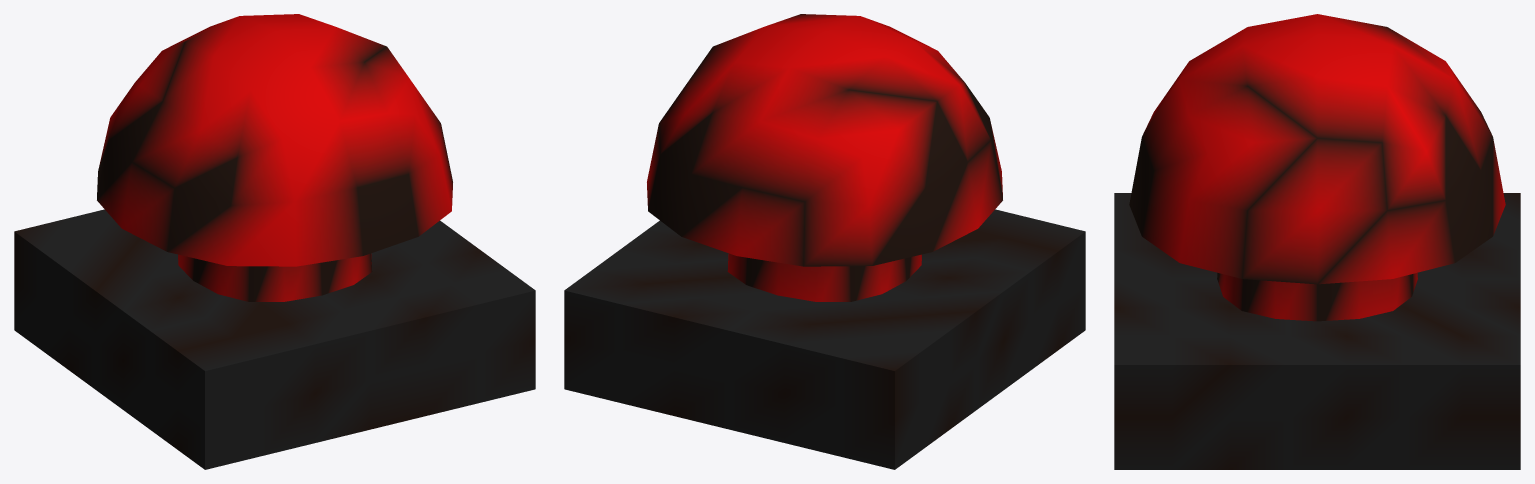
File: SM_Button.fbx
3 renders of one model, left to right at view 1: azimuth 30°, elevation 25°; view 2: azimuth 150°, elevation 25°; view 3: azimuth 270°, elevation 25°, orthographic. The views are drawn at different scales.
Parts seen in each view (by area): view 1: Button_stand, Button_top; view 2: Button_stand, Button_top; view 3: Button_top, Button_stand.
Part boxes in pixels (x1,y1,x2,y2): Button_stand: [14, 209, 535, 469]; Button_top: [97, 14, 452, 301]; Button_stand: [564, 209, 1085, 469]; Button_top: [647, 14, 1002, 301]; Button_top: [1129, 14, 1505, 321]; Button_stand: [1114, 193, 1520, 469].
Bounding box in the file's own units: 41.49 × 39.42 × 41.49.
